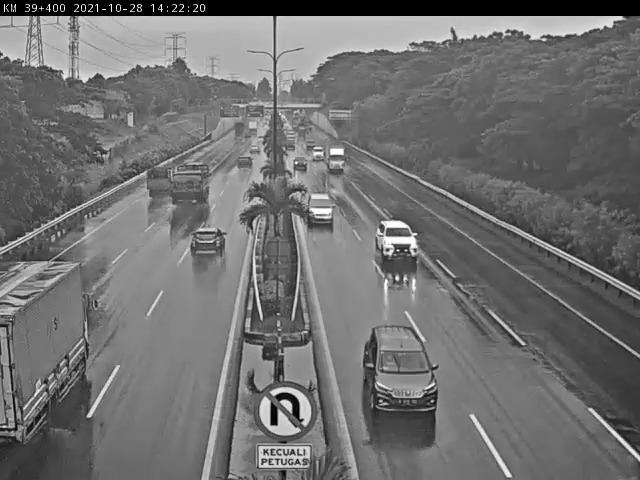big truck: (0, 256, 91, 463)
car: (365, 327, 438, 414), (369, 210, 419, 261), (300, 182, 337, 223), (188, 227, 228, 263), (235, 155, 257, 174), (311, 143, 325, 165), (294, 154, 309, 170), (249, 140, 262, 155)
small truck: (167, 163, 206, 208), (135, 164, 169, 200), (324, 140, 346, 171)
